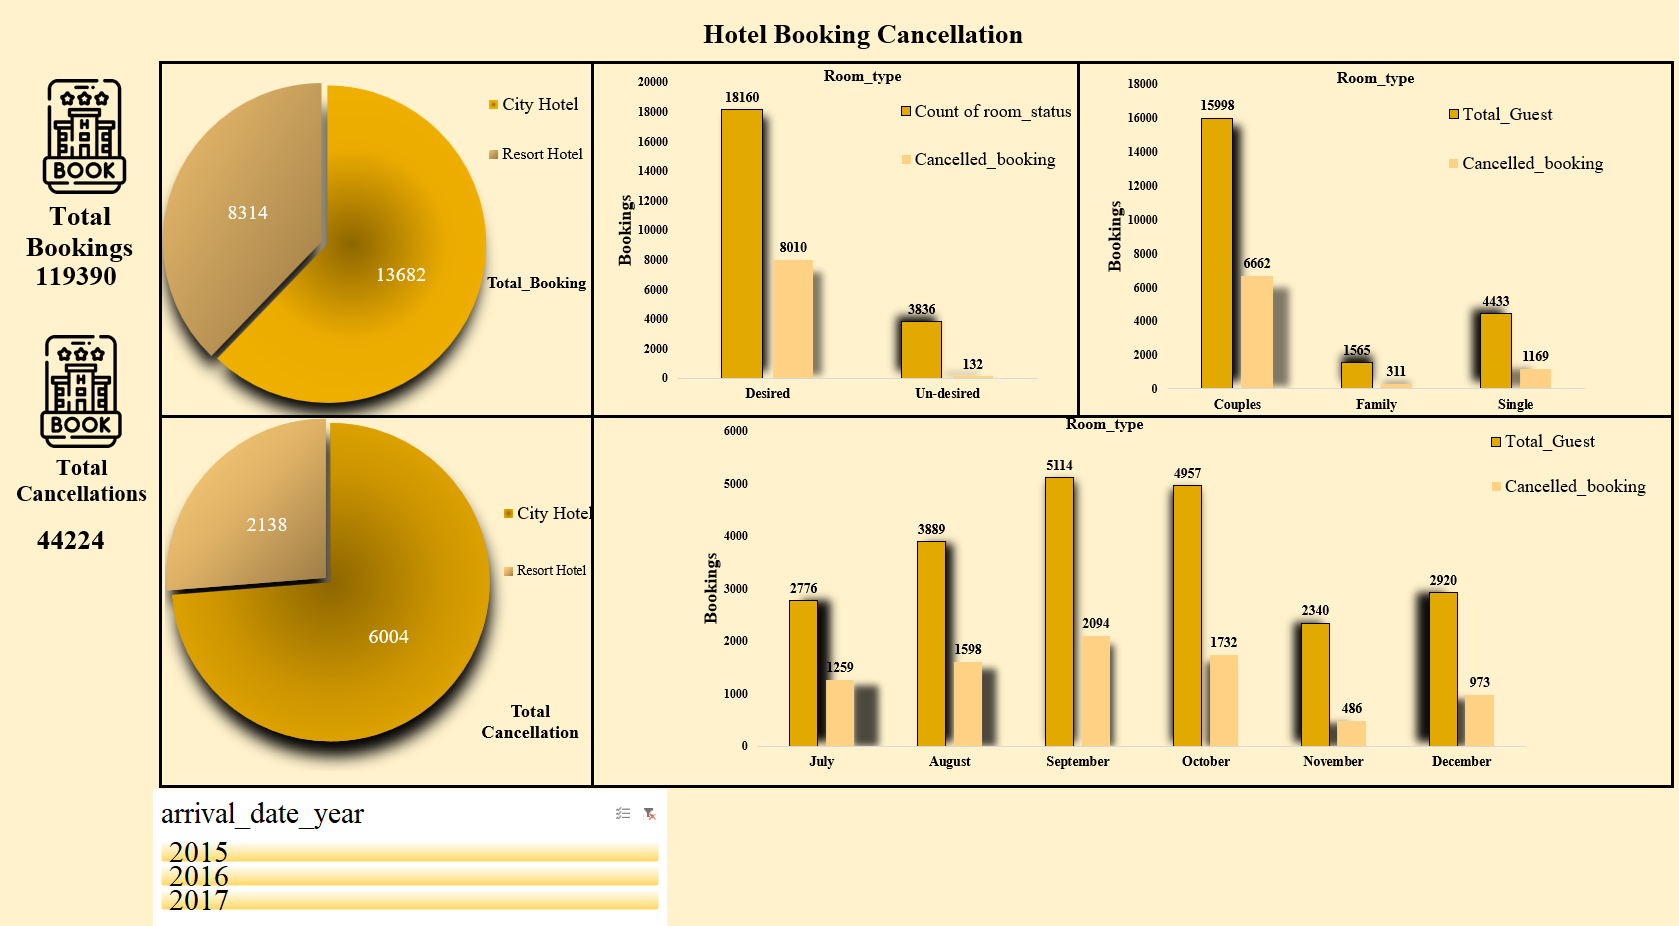

This screenshot's page, from the dashboard's own definition file:
{"tool":"powerbi","page":{"name":"Page 1","canvas":[1280,720],"ordinal":0},"visuals":[{"type":"donutChart","title":"Total Booking","fields":{"Category":["hotel.hotel"],"Y":["CountNonNull(hotel.hotel)"]},"box":[46.5,72.1,320.4,320.4],"z":0},{"type":"donutChart","title":"Total Cancellation ","fields":{"Category":["hotel.hotel"],"Y":["Sum(hotel.is_canceled)"]},"box":[46.5,401.1,320.4,319.2],"z":1000},{"type":"clusteredColumnChart","title":"Cancel booking based on room type","fields":{"Category":["hotel.Room_type"],"Y":["CountNonNull(hotel.Room_type)","Sum(hotel.is_canceled)"]},"box":[382.8,112.5,428.1,279.9],"z":2000},{"type":"clusteredBarChart","title":"Total Guest and Cancellation","fields":{"Category":["hotel.Guest_type"],"Y":["CountNonNull(hotel.Guest_type)","Sum(hotel.is_canceled)"]},"box":[824.7,112.5,396.6,279.9],"z":3000},{"type":"clusteredColumnChart","title":"Total guest and cancelation based on arrival month","fields":{"Category":["hotel.arrival_date_month"],"Y":["CountNonNull(hotel.Guest_type)","Sum(hotel.is_canceled)"]},"box":[382.8,400.7,838.4,319.7],"z":4000},{"type":"slicer","title":"Years","fields":{"Values":["hotel.reservation_status_date.Variation.Date Hierarchy.Year"]},"box":[824.7,11,396.6,91.9],"z":5000},{"type":"textbox","box":[382.8,12.3,428.1,90.6],"z":6000}]}

Visuals, with their boxes in screenshot pixels (x1, y1, x2, y2), scaled from the page's 1280x720 canvas onto the 1679x926 screenshot:
"Total Booking" donutChart: box(61, 93, 481, 505)
"Total Cancellation " donutChart: box(61, 516, 481, 925)
"Cancel booking based on room type" clusteredColumnChart: box(502, 145, 1064, 505)
"Total Guest and Cancellation" clusteredBarChart: box(1082, 145, 1602, 505)
"Total guest and cancelation based on arrival month" clusteredColumnChart: box(502, 515, 1602, 925)
"Years" slicer: box(1082, 14, 1602, 132)
textbox: box(502, 16, 1064, 132)
